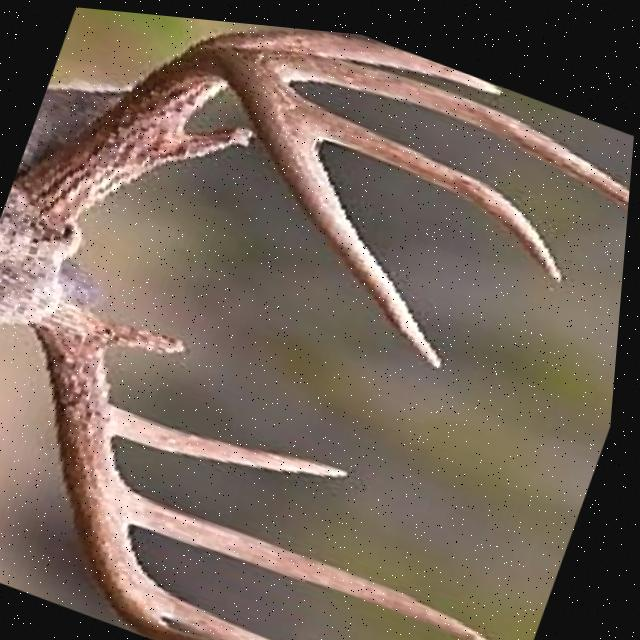L-F: (36, 303, 307, 640)
L-G1: (95, 314, 192, 351)
L-G2: (112, 400, 355, 469)
L-G3: (131, 483, 511, 640)
R-F: (16, 40, 449, 360)
R-G1: (165, 120, 250, 159)
R-G2: (199, 24, 506, 87)
R-G3: (246, 43, 632, 198)
R-G4: (292, 86, 566, 272)
